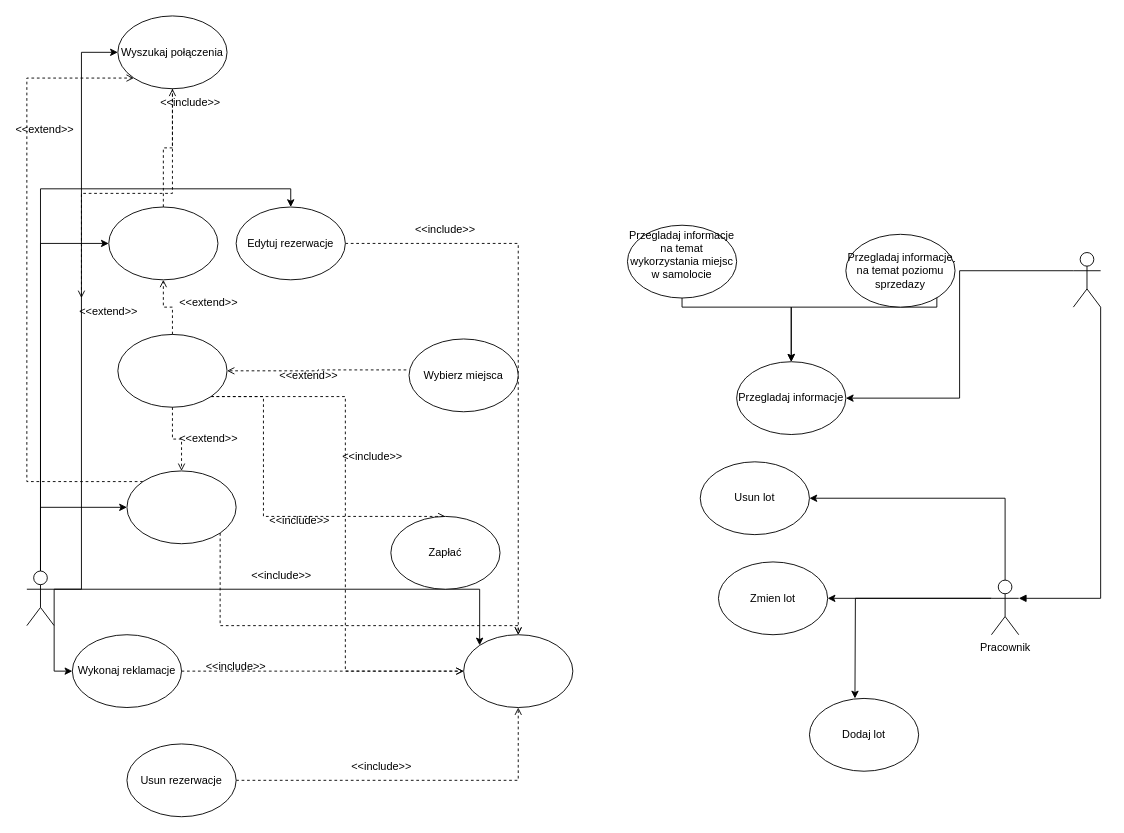
This 1124x833 diagram has some shape labels left out. Here are the shapes that lost their labels. From the top down, the centre of each, then its label:
the point at 163,243: Zaplanuj podróż
the point at 1086,279: Dyrekcja
the point at 172,370: Kup bilet
the point at 181,507: Dodaj rezerwacje
the point at 40,598: Klient
the point at 518,671: Zaloguj
